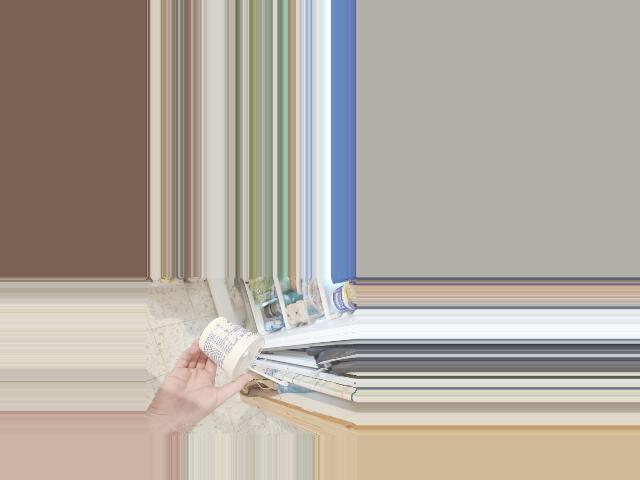cotage: (196, 324, 267, 380)
